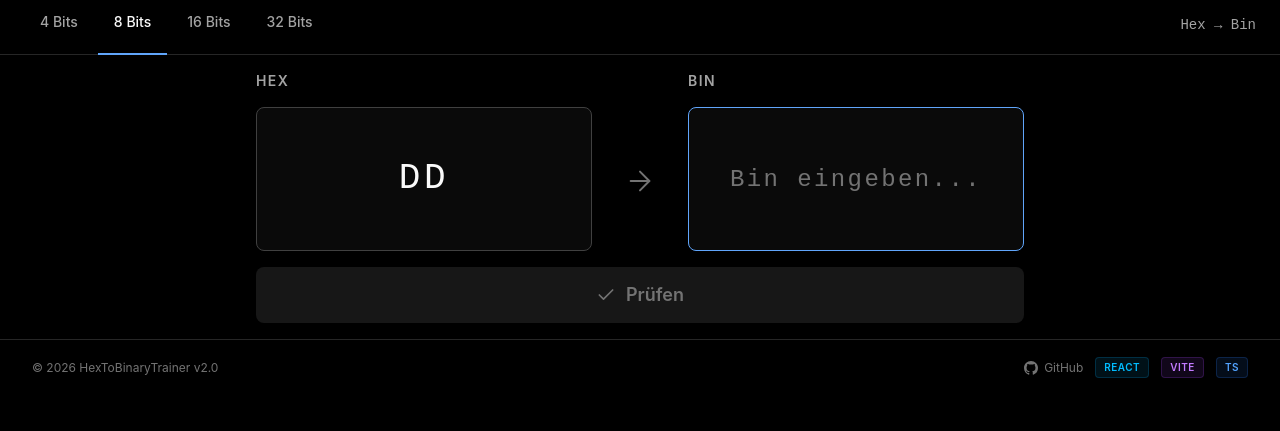
Scenario: unlock gating (US-39) › server authority on a 403 (AC-4) › keeps the profile refresh reserved for the locked case
Type "10000111" into the field.
click(856, 179); type("10000111")  # box [713, 162, 999, 196]
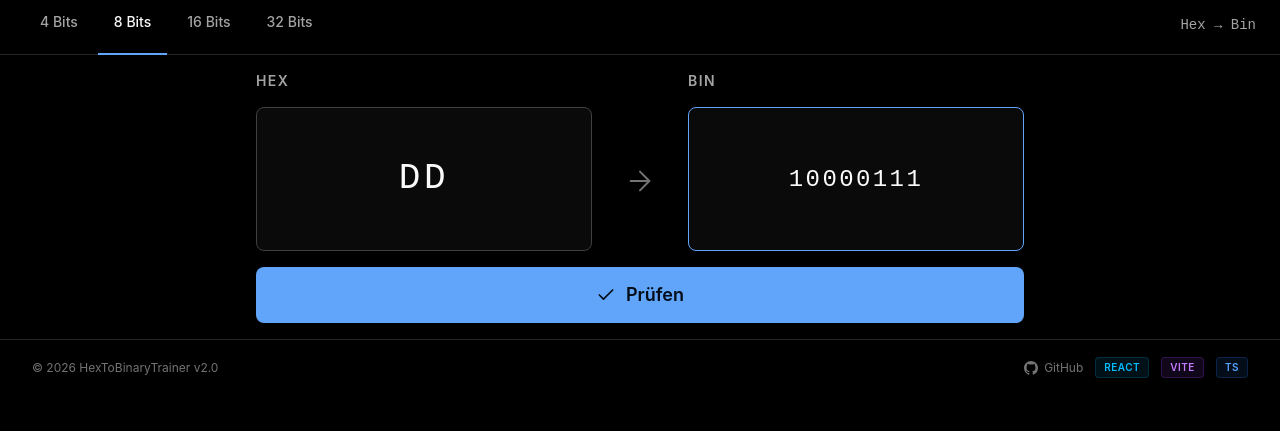
Click the button with aria-label "check answer".
click(640, 295)  # box [256, 267, 1024, 323]
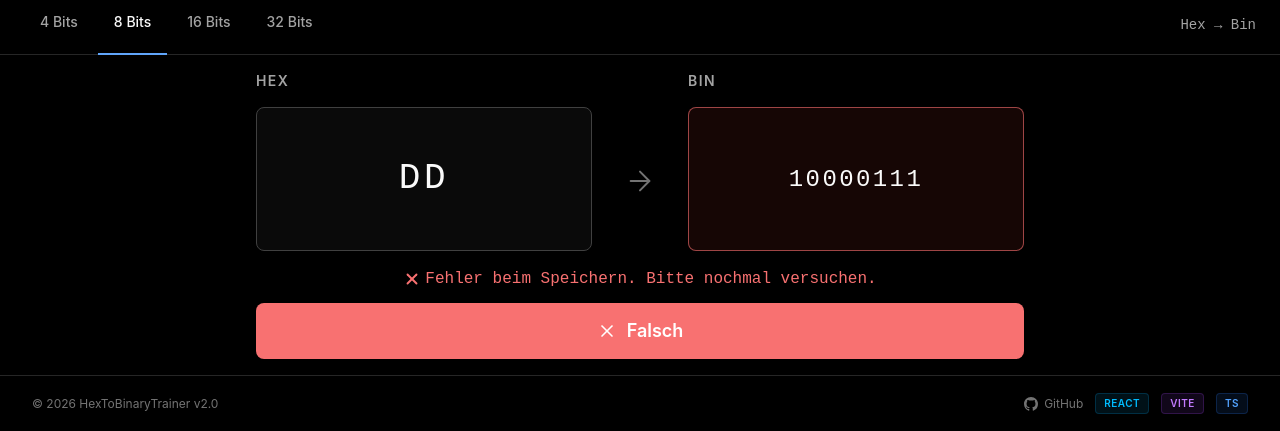
Check: the message shows "Fehler beim Speichern", box [425, 270, 877, 288]
